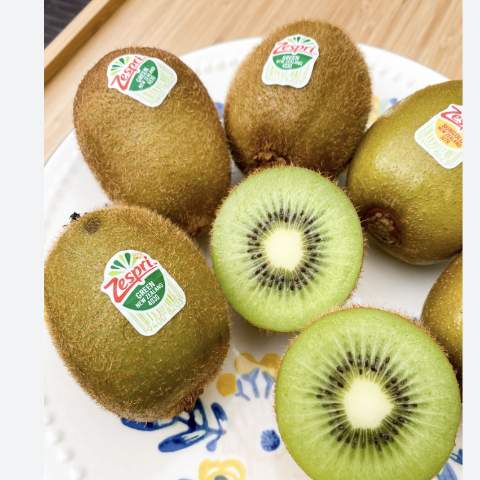kiwi: (35, 188, 253, 420), (74, 26, 228, 247), (214, 14, 387, 188)
